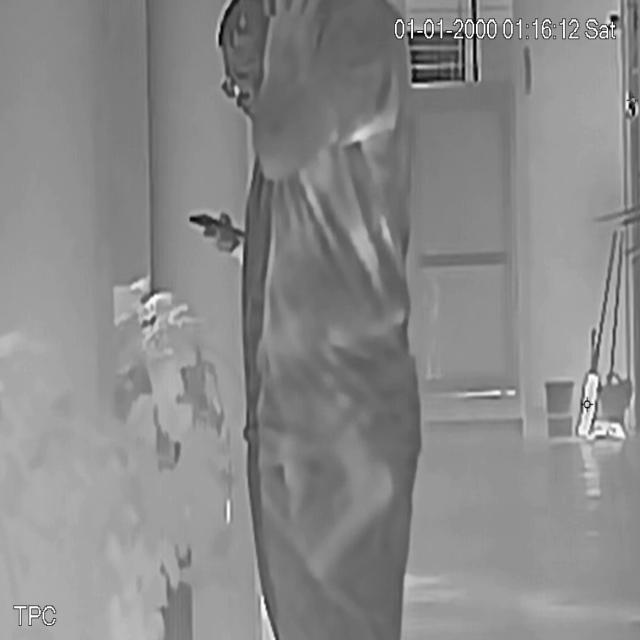Weapon: (304, 420, 406, 588)
